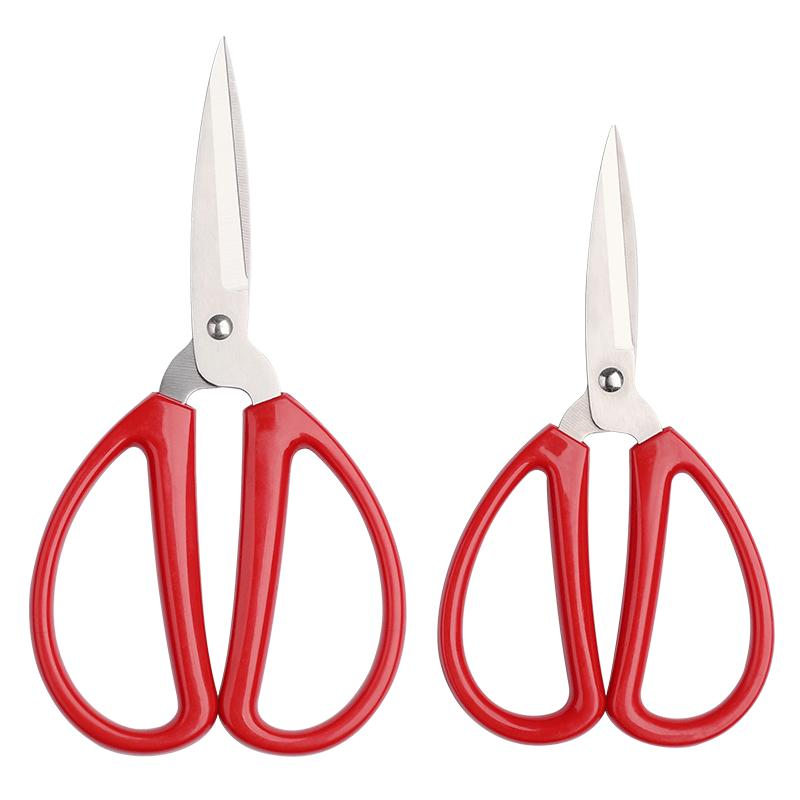scissors: (25, 26, 410, 769), (432, 115, 778, 757)
